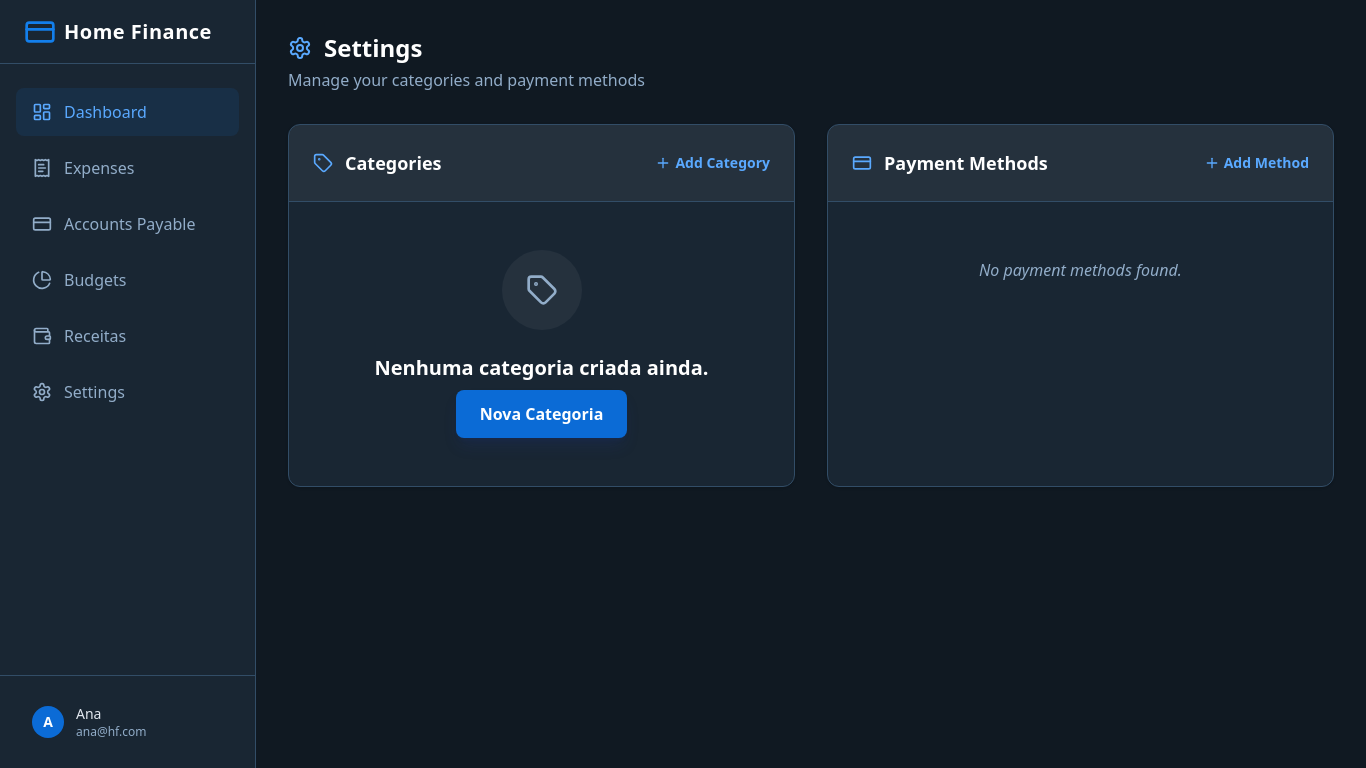
Test: Settings (integração) › abre o modal de nova forma de pagamento
This screenshot has width=1366, height=768.
Click the button "Add Method": click(1256, 163) [1204,153,1309,173]
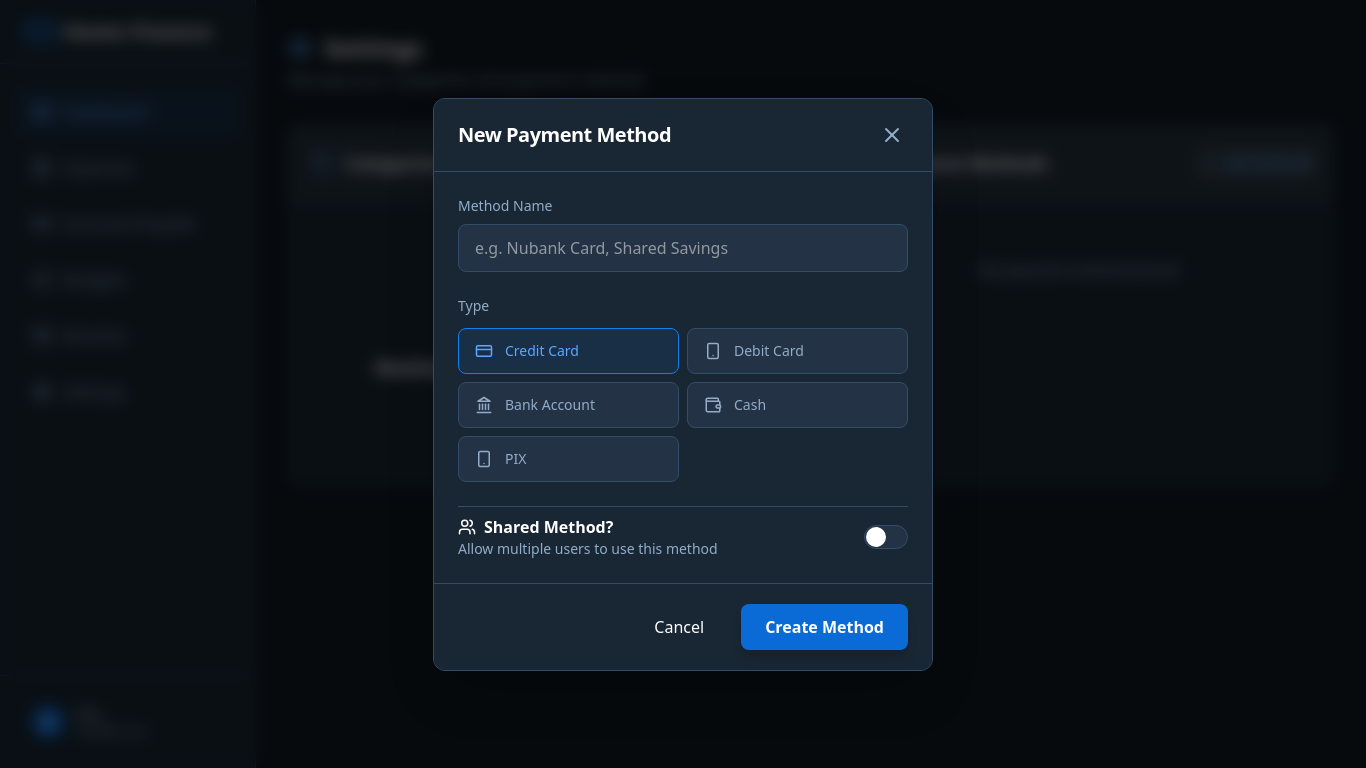
Expected: the heading "New Payment Method" is shown, [458,120,671,148]
